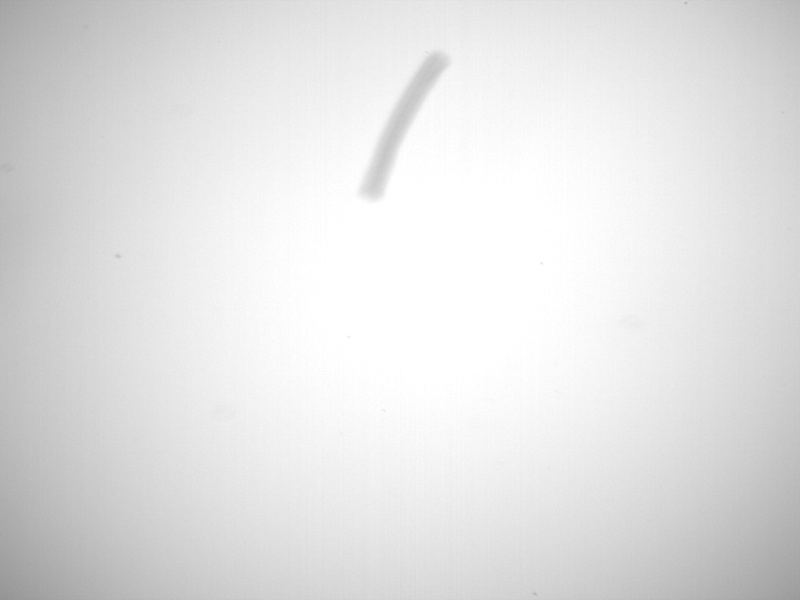fiber: (359, 50, 453, 202)
